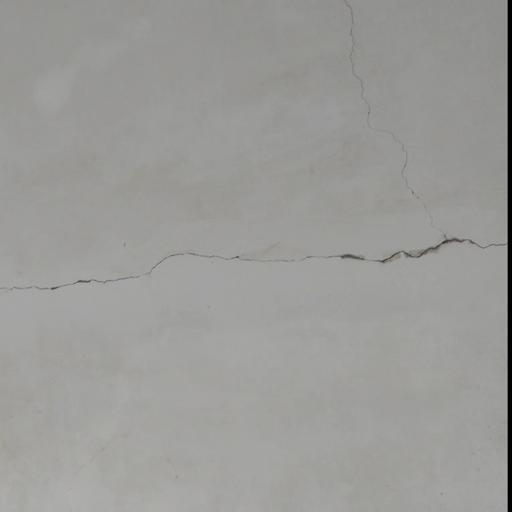minor_crack: (0, 224, 512, 313), (334, 0, 461, 248)
